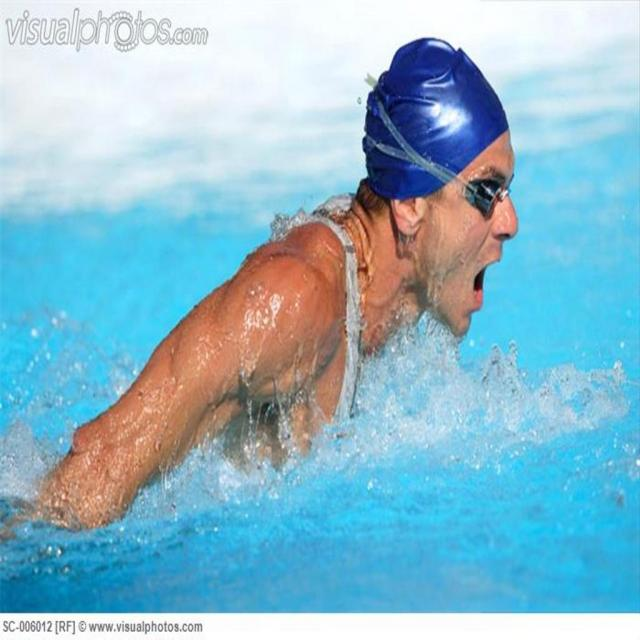nomask: (429, 138, 519, 338)
